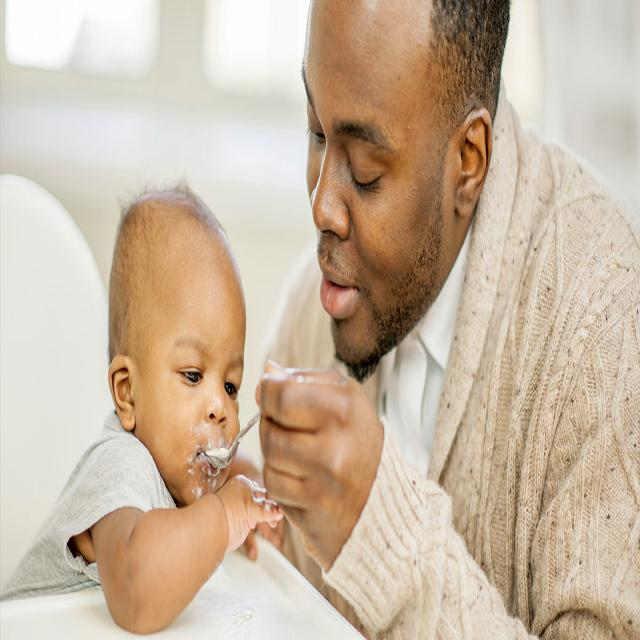adult: (257, 0, 639, 635)
child: (0, 185, 286, 634)
